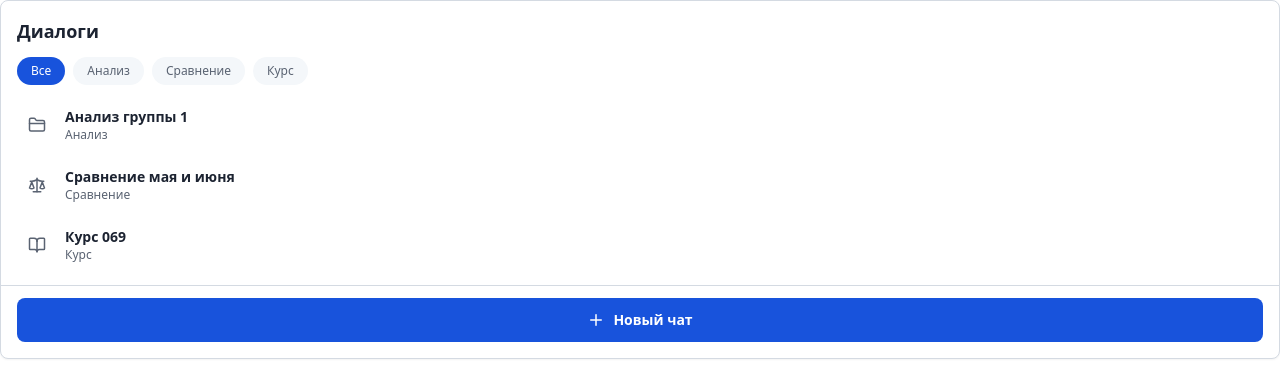
Scenario: ThreadSidebar › filter chip 'Все' shows every thread
Click the button "Анализ" at (109, 71), box [73,57,144,85]
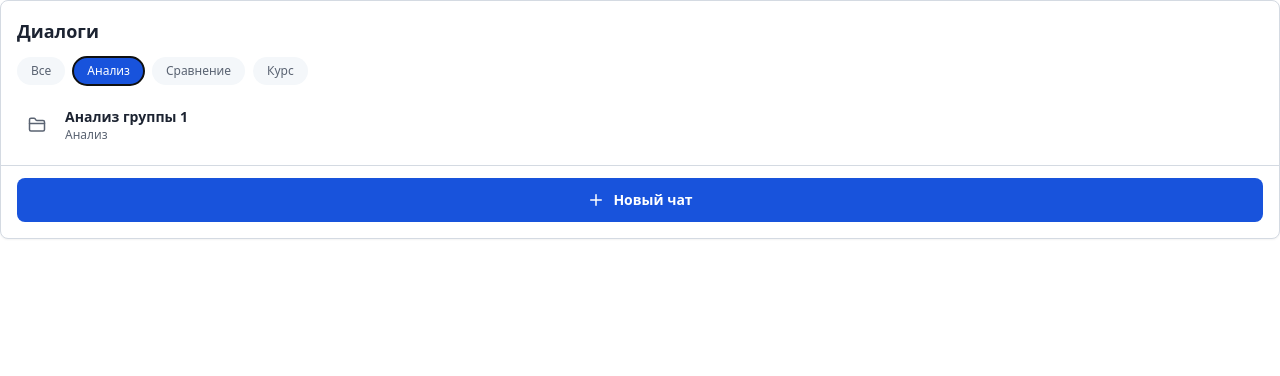
Click the button "Все" at (41, 71), box [17,57,65,85]
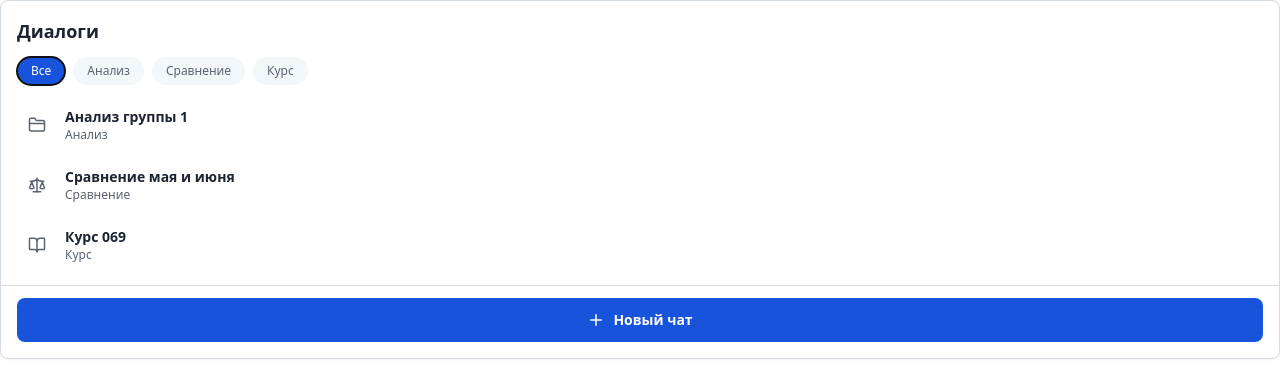
Result: the text "Курс 069" is shown at [65,227,126,247]
